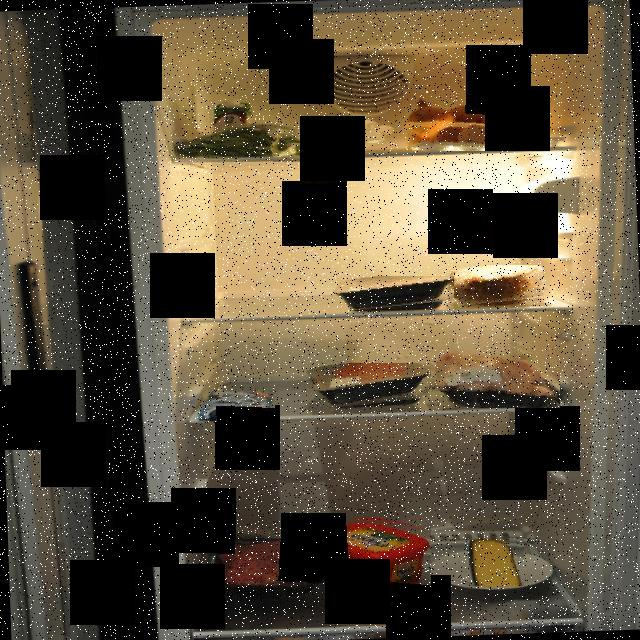beef: (304, 363, 433, 411)
bread: (446, 266, 544, 308)
butter: (310, 514, 431, 592)
cheese: (466, 534, 524, 586)
chicken: (427, 338, 560, 408)
chicken_breast: (334, 276, 454, 312)
chocolate: (193, 386, 275, 422)
eggs: (432, 114, 538, 151)
green_beans: (172, 118, 352, 162)
ground_beef: (208, 530, 326, 598)
heavy_cream: (211, 96, 255, 156)
onion: (407, 91, 529, 150)
